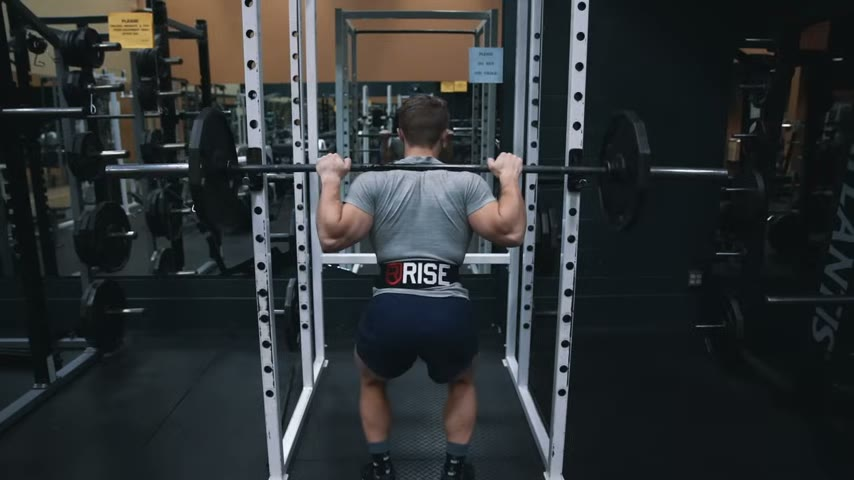barbell_plate_side: (249, 123, 354, 306)
